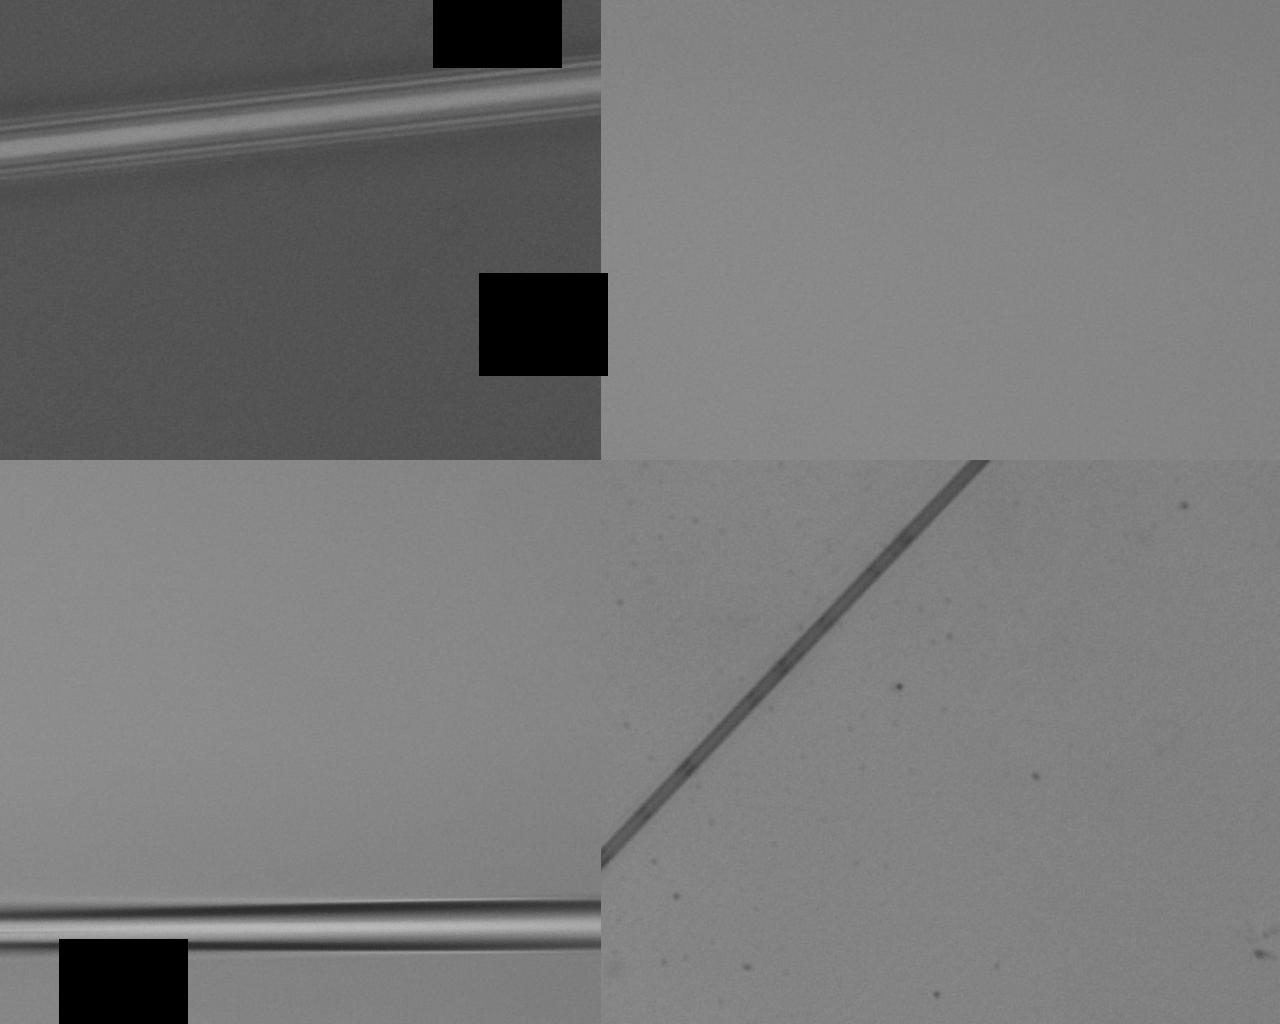fiber: (668, 0, 906, 440), (601, 712, 1224, 792), (195, 440, 601, 528)
